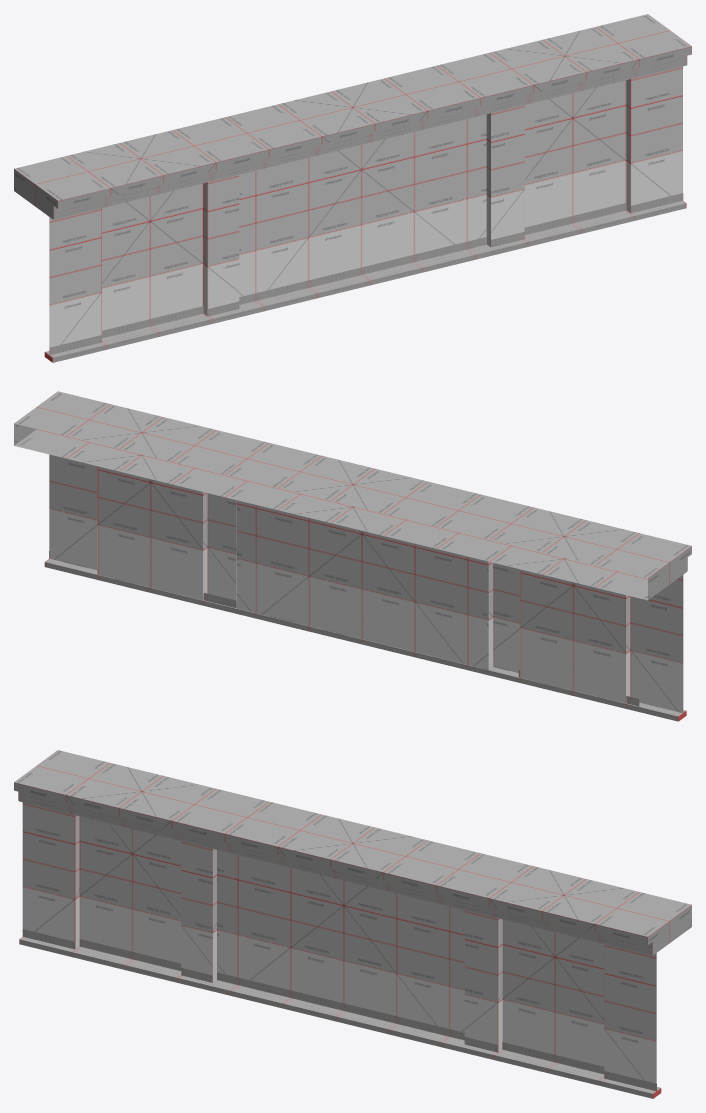
3 views of the same model, one above another, from view 1: azimuth 30°, elevation 25°; view 2: azimuth 150°, elevation 25°; view 3: azimuth 330°, elevation 25° (orthographic).
Visible parts, largest first — view 1: S_00_base_3x_c; view 2: S_00_base_3x_c; view 3: S_00_base_3x_c.
Part boxes in pixels (x1,y1,x2,y2): S_00_base_3x_c: (14,14,691,362); S_00_base_3x_c: (14,391,691,721); S_00_base_3x_c: (14,750,691,1098).
Size of the model in its own units: 60.02 by 7.23 by 15.
